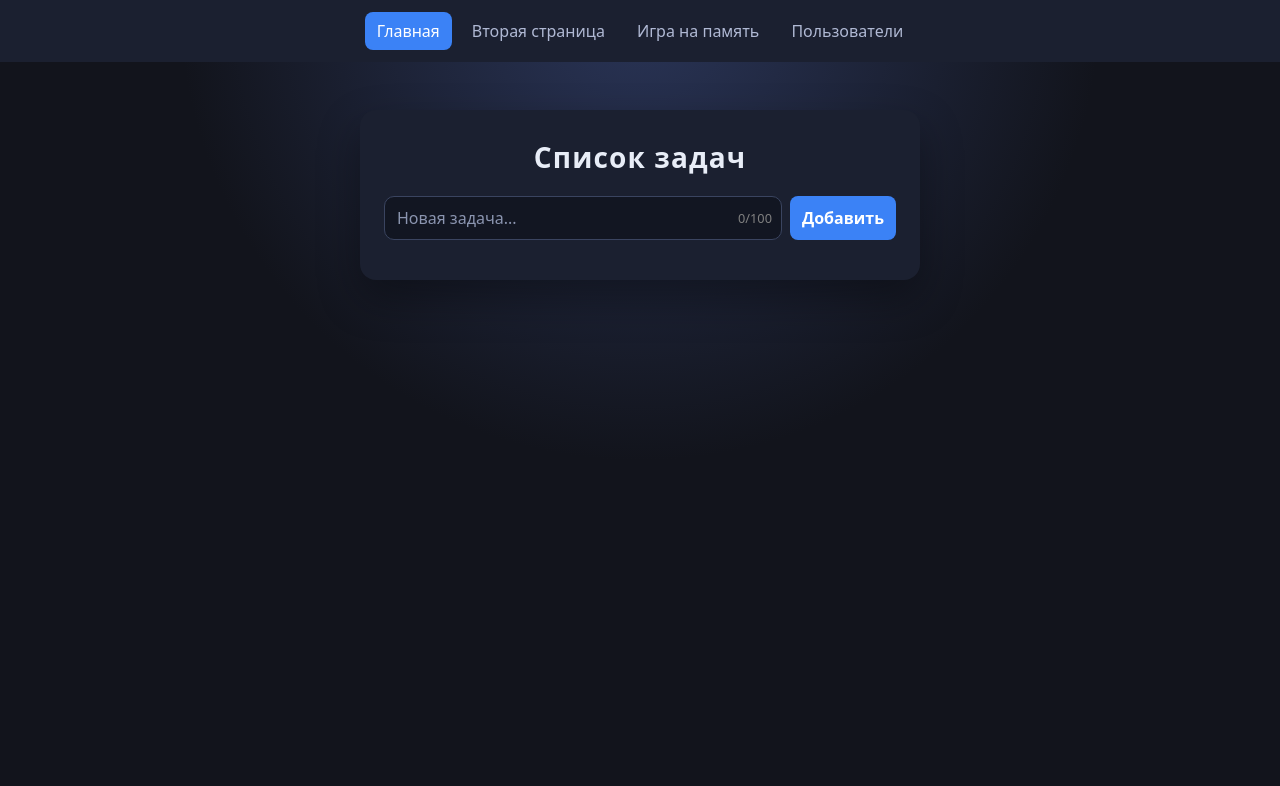
App › переходит на другую страницу по ссылке из меню
The image size is (1280, 786).
What coordinates should you click on to do the following:
click the link "Пользователи"
I would click on:
 (847, 31)
Its box is top-left (791, 20), bottom-right (903, 42).
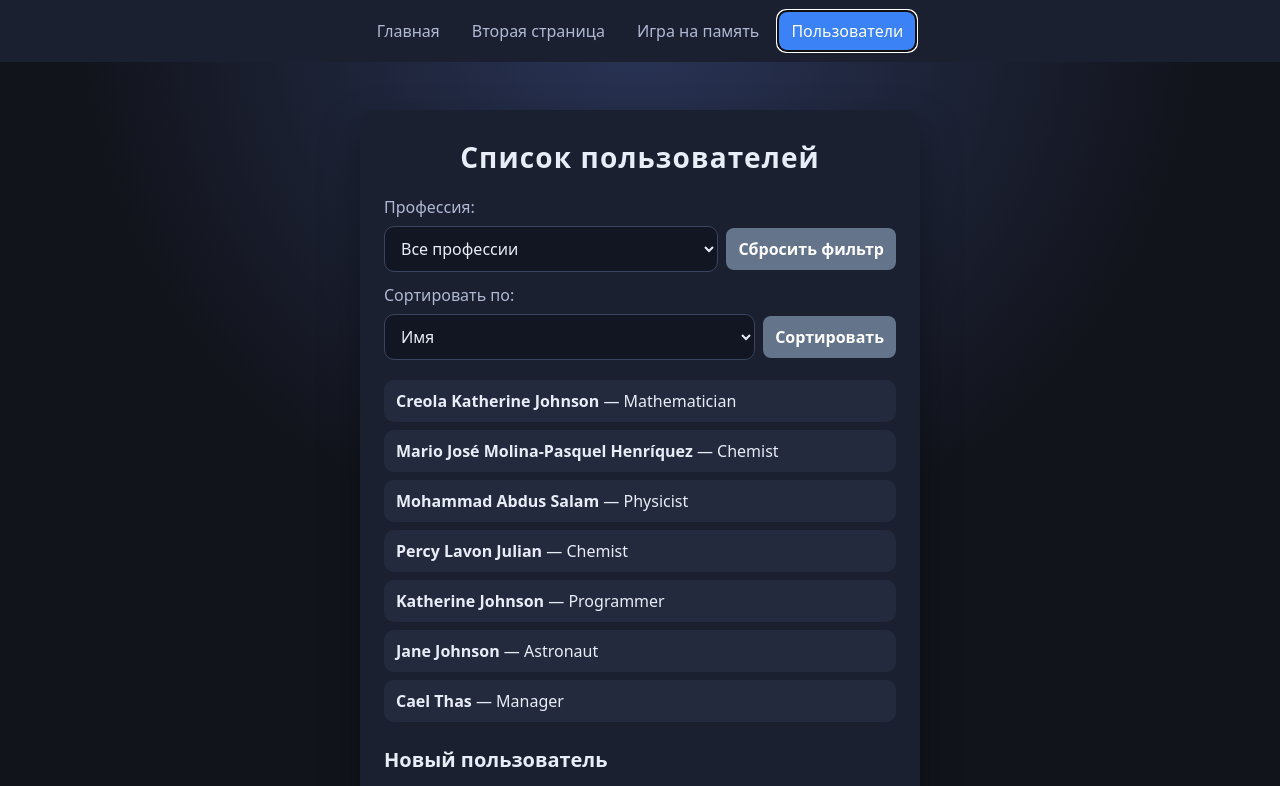
Result: the heading "Список пользователей" is shown at top-left (460, 138), bottom-right (820, 176)
